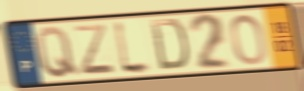2: (188, 12, 234, 73)
D: (148, 17, 190, 73)
L: (112, 17, 156, 79)
O: (228, 12, 268, 67)
Q: (33, 25, 81, 81)
Z: (72, 22, 118, 77)
